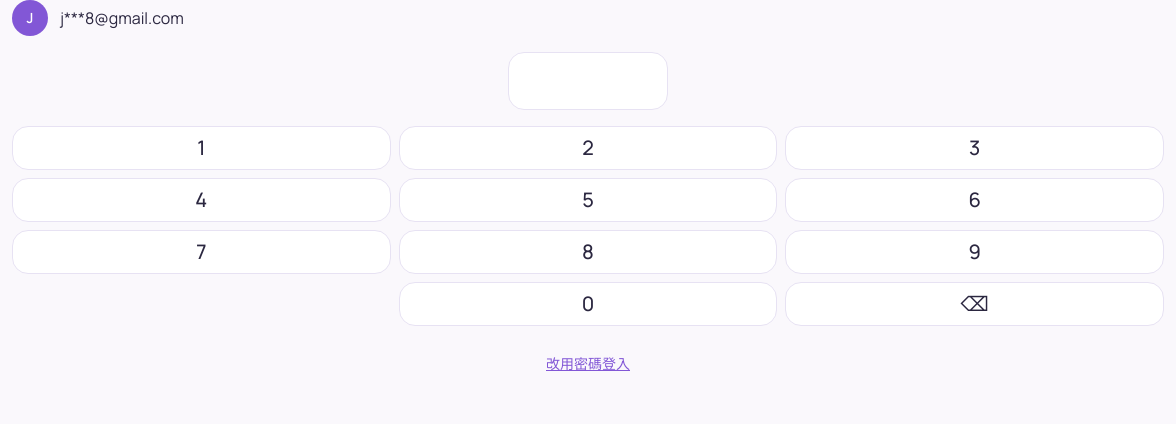
Test: PinLoginPad › 鎖定（429）顯示改用密碼登入提示
Click the button named "數字 1" at (201, 148), box [12, 126, 391, 170]
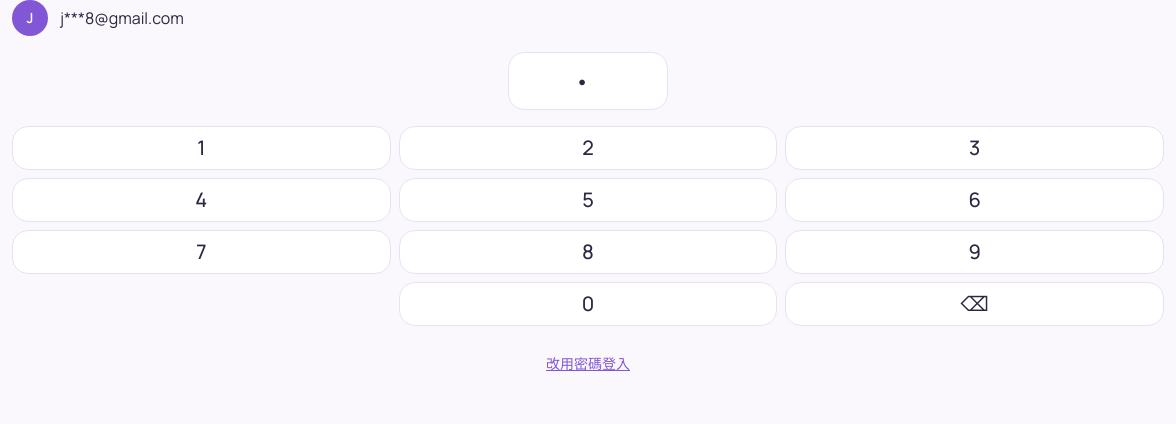
Click the button "2" at (588, 148), box [399, 126, 777, 170]
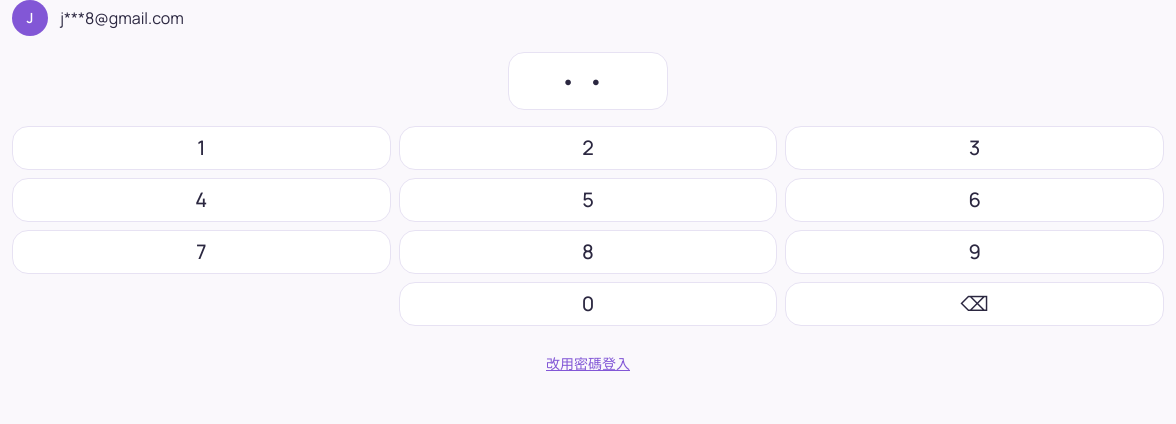
Click the button "3" at (975, 148), box [785, 126, 1164, 170]
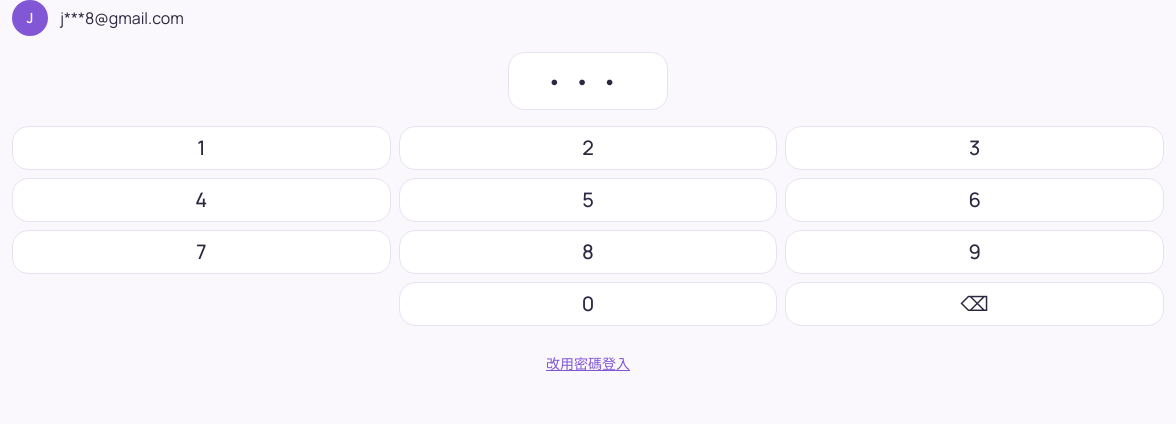
Click the button "4" at (201, 200), box [12, 178, 391, 222]
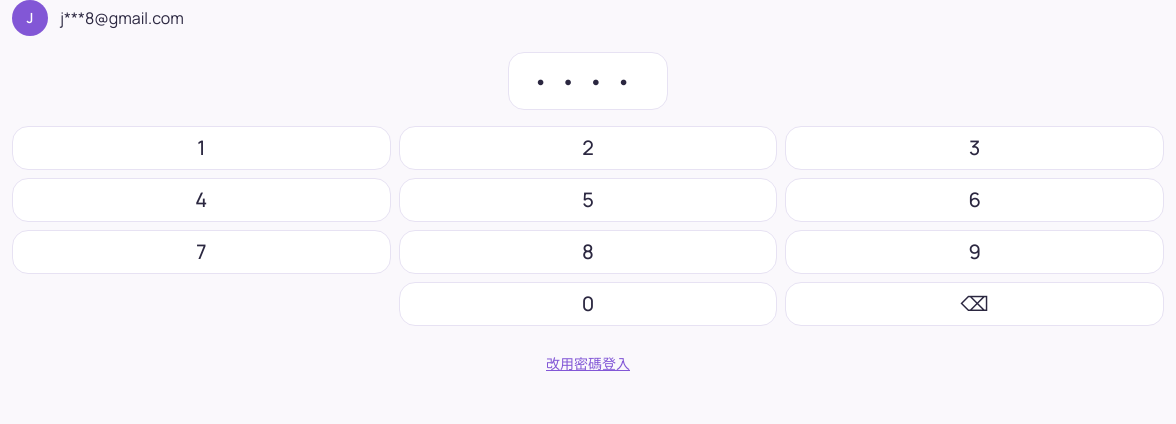
Click the button "5" at (588, 200), box [399, 178, 777, 222]
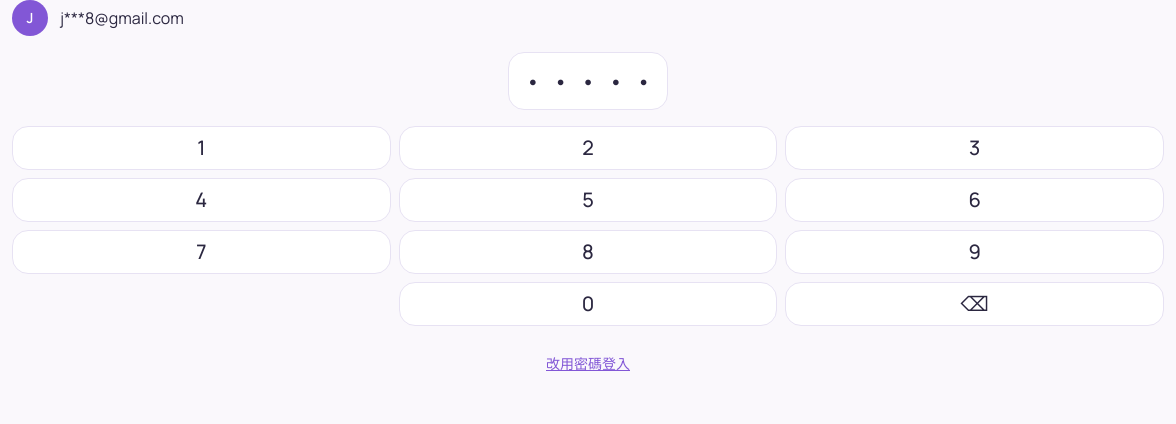
Click the button "6" at (975, 200), box [785, 178, 1164, 222]
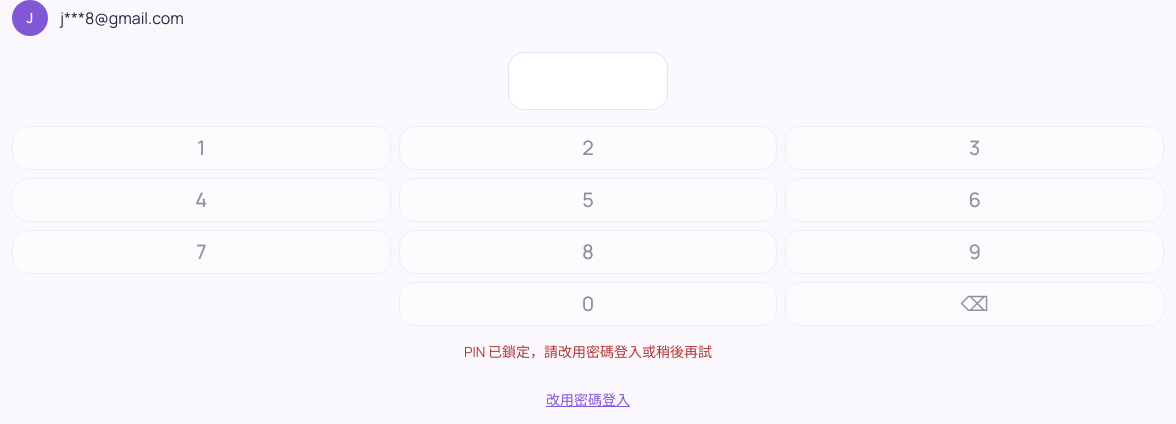
Result: the message reads "PIN 已鎖定，請改用密碼登入或稍後再試" at [464, 342, 712, 361]
